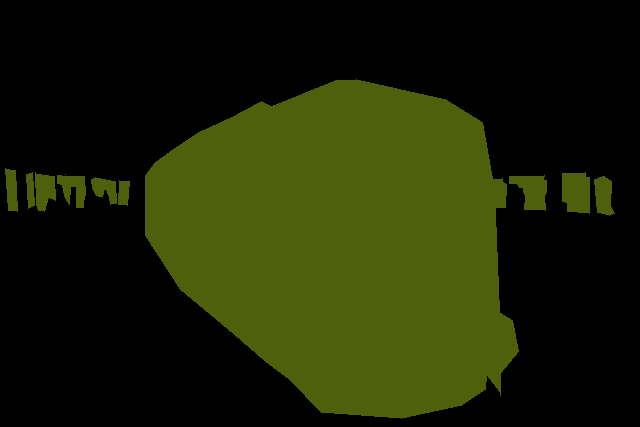Train: (145, 79, 518, 418), (490, 172, 614, 216), (5, 168, 130, 211)
